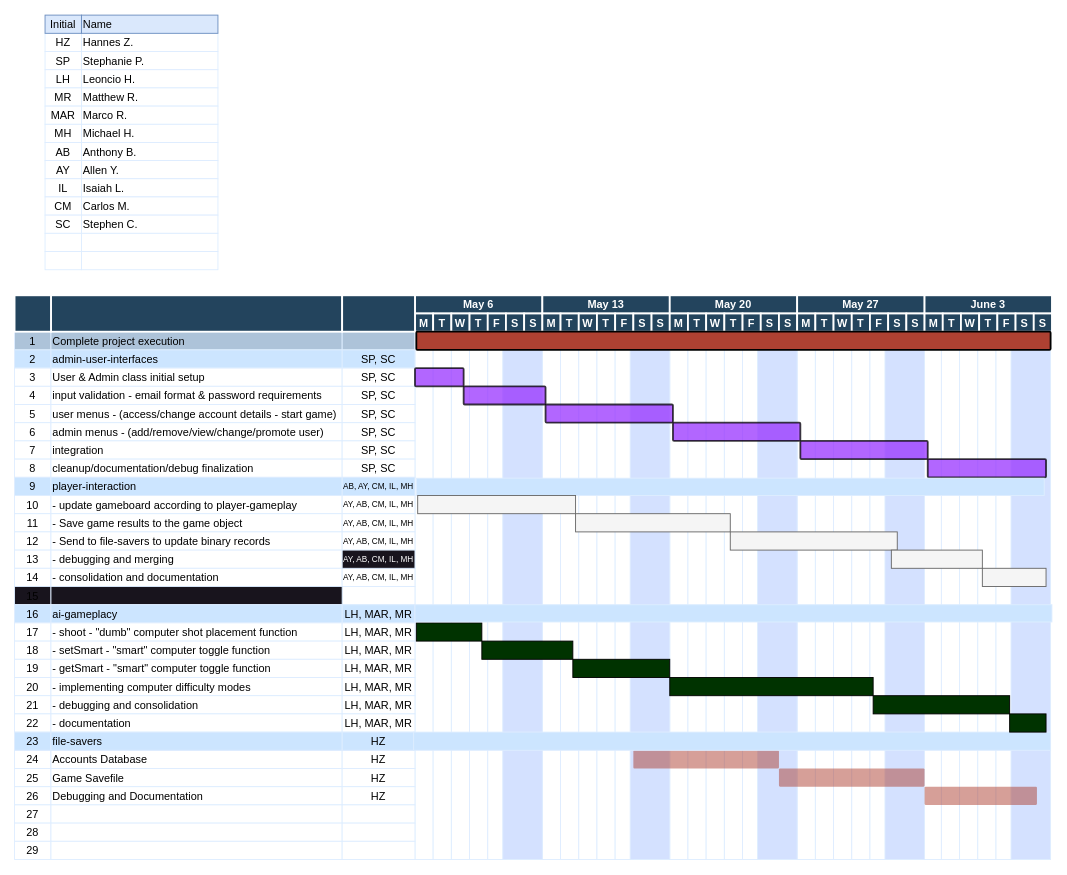
This 1067x875 diagram has some shape labels left out. Here are the shapes that lost their labels. From the top down, the centre of each, then its label:
At [196,313]: "Task Name".
At [378,313]: "Developer".
